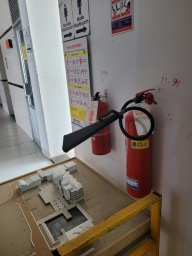fire_extinguisher: (81, 50, 150, 90)
